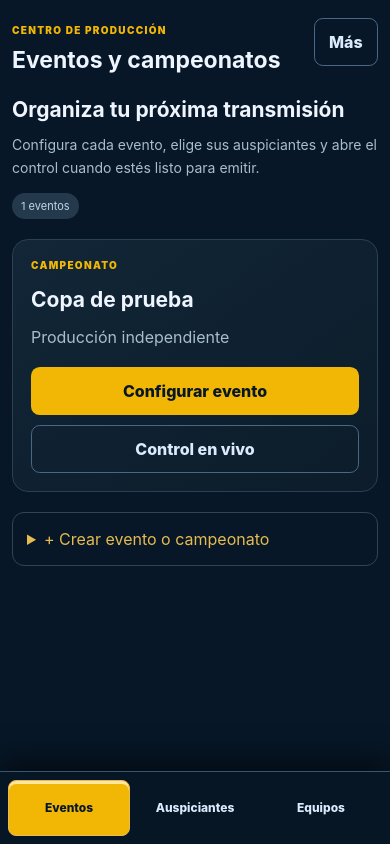
Test: el menú permite acceder a torneo, enlaces y cierre de sesión
Click the button "Control en vivo" at coordinates (195, 449), box [31,425,359,473]
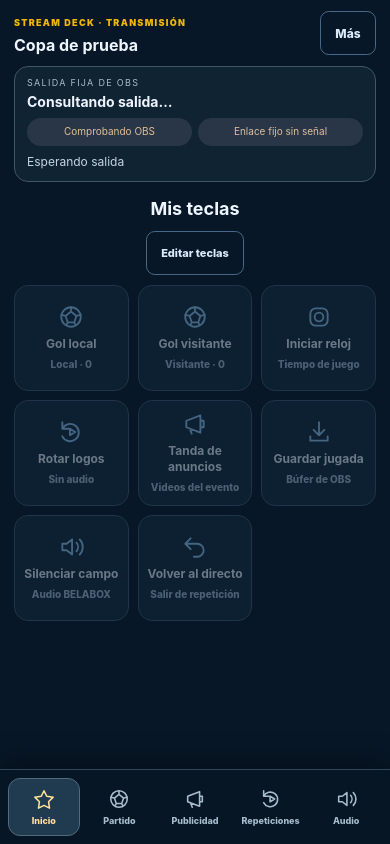
Click the button "Más" at coordinates (348, 33), box [320,11,376,55]
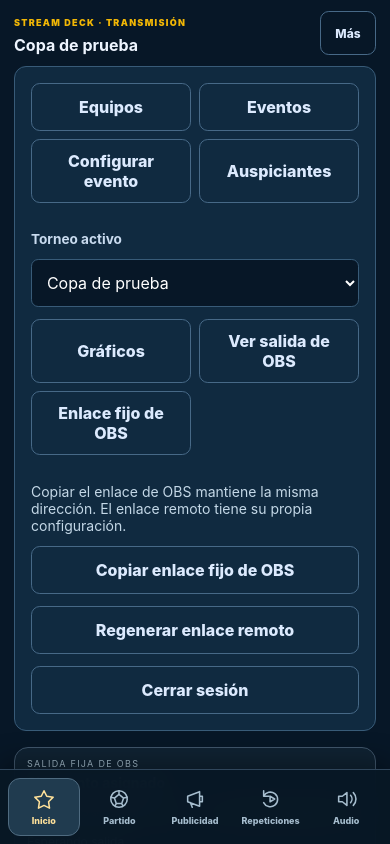
expect the dropdown labelled "Torneo activo" shows "Copa de prueba": met, box [31,259,359,307]
expect the element named "Torneo y sesión" shows "Copiar el enlace de OBS mantiene la misma dirección": met, box [31,483,319,534]
Click the button "Más" at coordinates (348, 33), box [320,11,376,55]
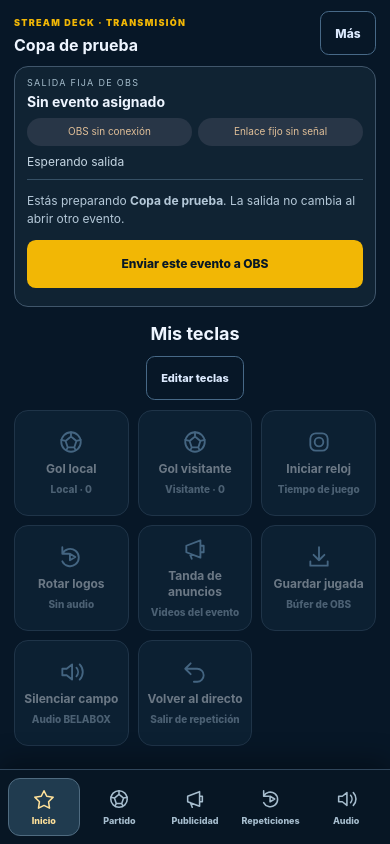
expect the label labelled "Torneo activo" is gone: met
